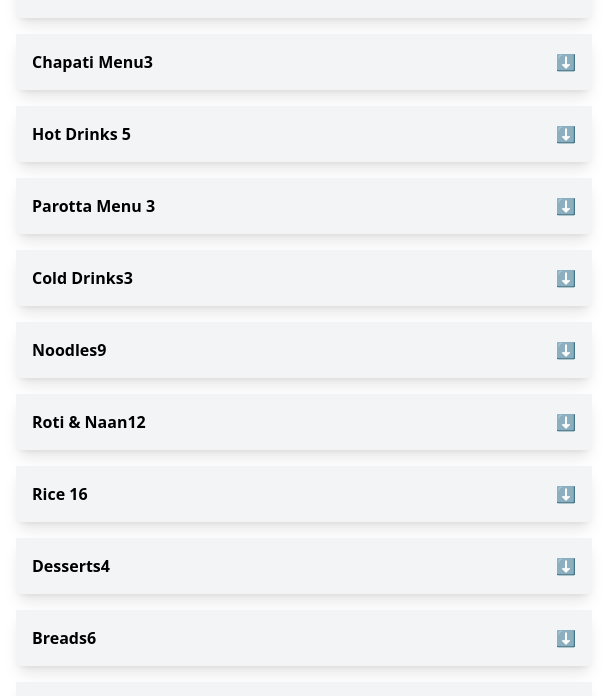
Test case: Should Render the Cart Component
(page scrolled)
Click the text "Noodles9": (69,350) [32,338,106,362]
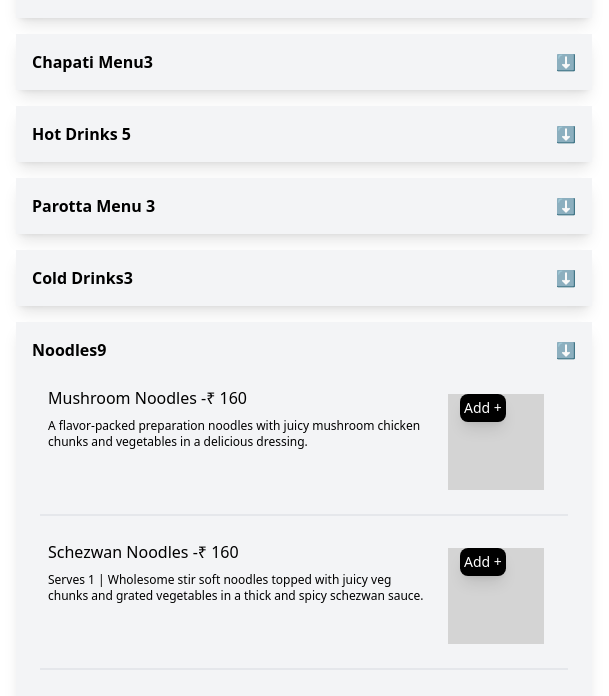
Now the number of elements with test id "cart1" is 9
Click the button "Add +" in the row of "Mushroom Noodles": (483,408) [460,394,506,422]
(page scrolled)
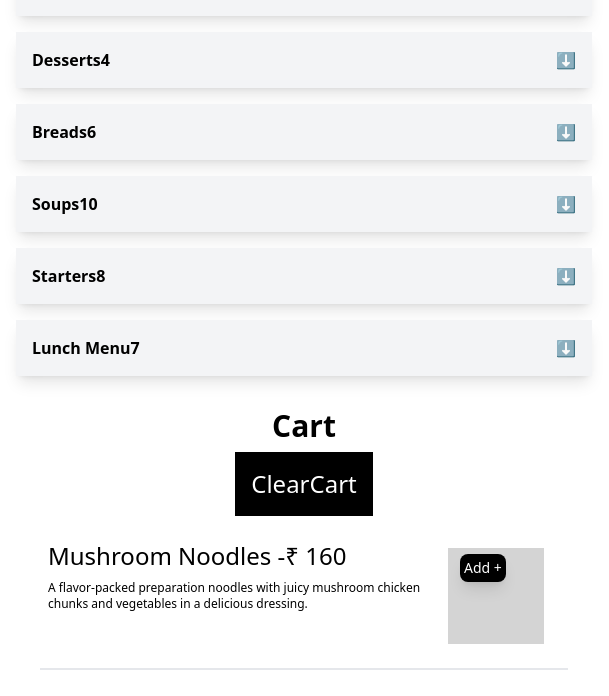
Click the button "ClearCart": (304,484) [235,452,373,516]
(page scrolled)
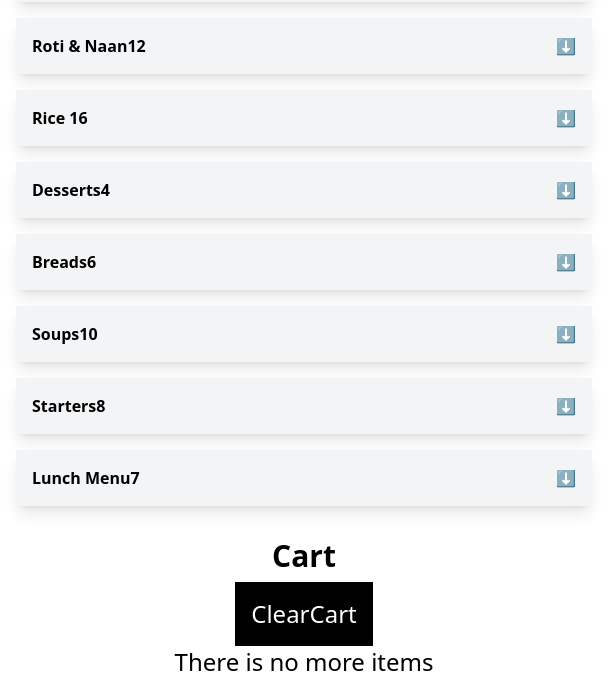
Now the heading "There is no more items" is shown, box [174,645,433,678]
